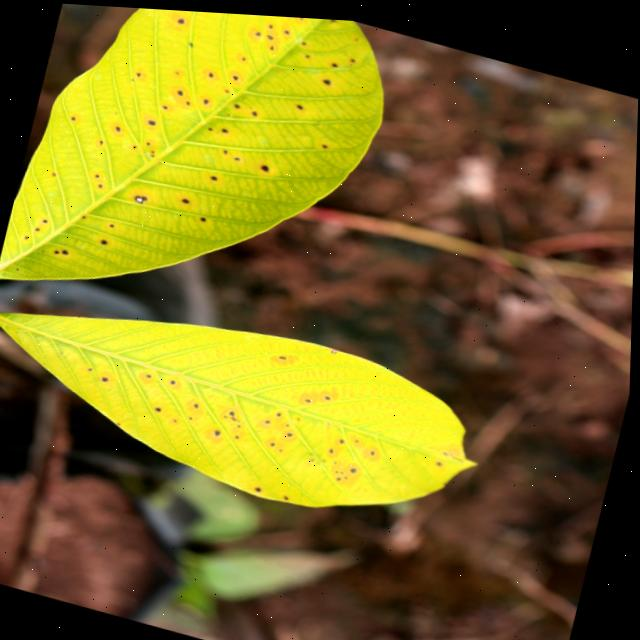Colletotrichum: (134, 193, 144, 202), (260, 160, 269, 169), (181, 195, 190, 201), (100, 238, 108, 243), (148, 118, 155, 123)
